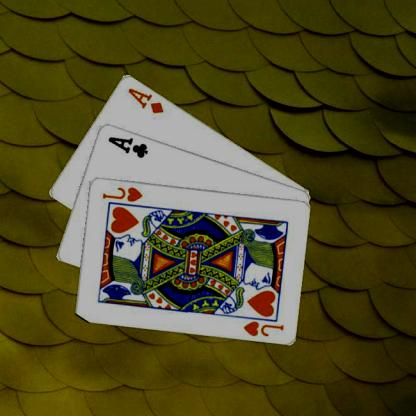AC: (107, 134, 151, 159)
AD: (127, 84, 167, 115)
JH: (101, 184, 145, 203), (242, 318, 286, 337)
